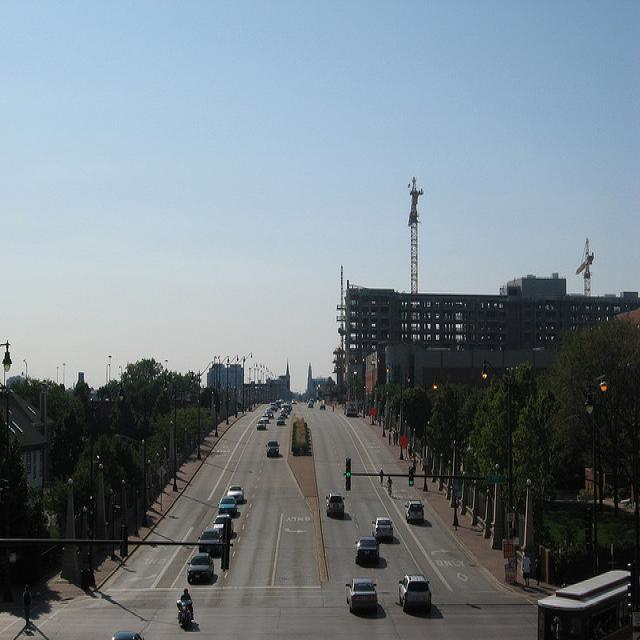motor: (176, 599, 193, 628)
